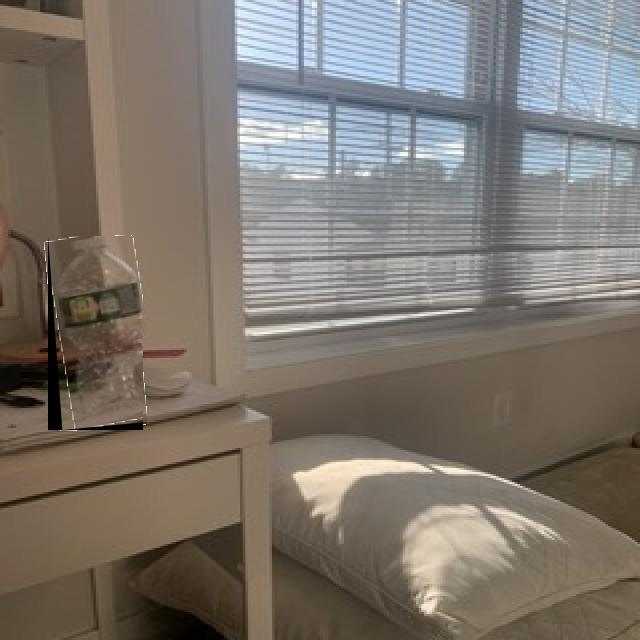water_bottle: (48, 236, 143, 430)
